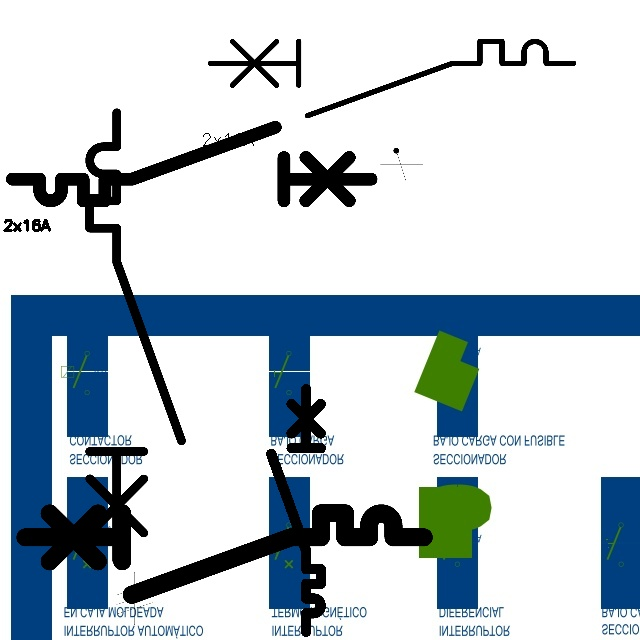interruptor_termomagnetico: (78, 101, 193, 571), (15, 503, 434, 605), (201, 32, 583, 125), (3, 118, 380, 210), (265, 383, 327, 638)
